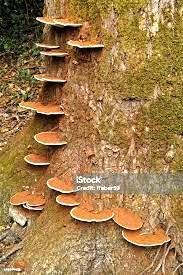Ganoderma - Fruit Body: (114, 207, 175, 246), (8, 186, 47, 209), (19, 100, 67, 116), (35, 13, 81, 29), (70, 208, 113, 223), (35, 126, 67, 146), (32, 70, 69, 85), (46, 174, 75, 192), (20, 149, 51, 165), (36, 40, 65, 57), (66, 37, 104, 48), (55, 194, 81, 207)
